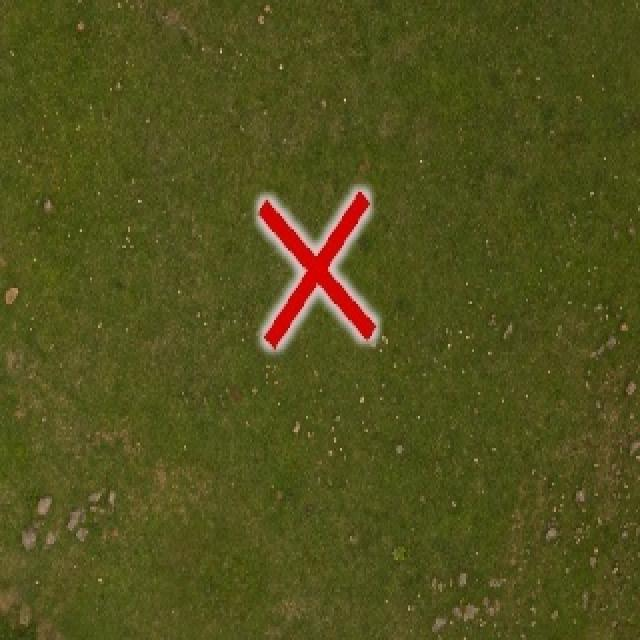x_marker: (259, 191, 375, 345)
